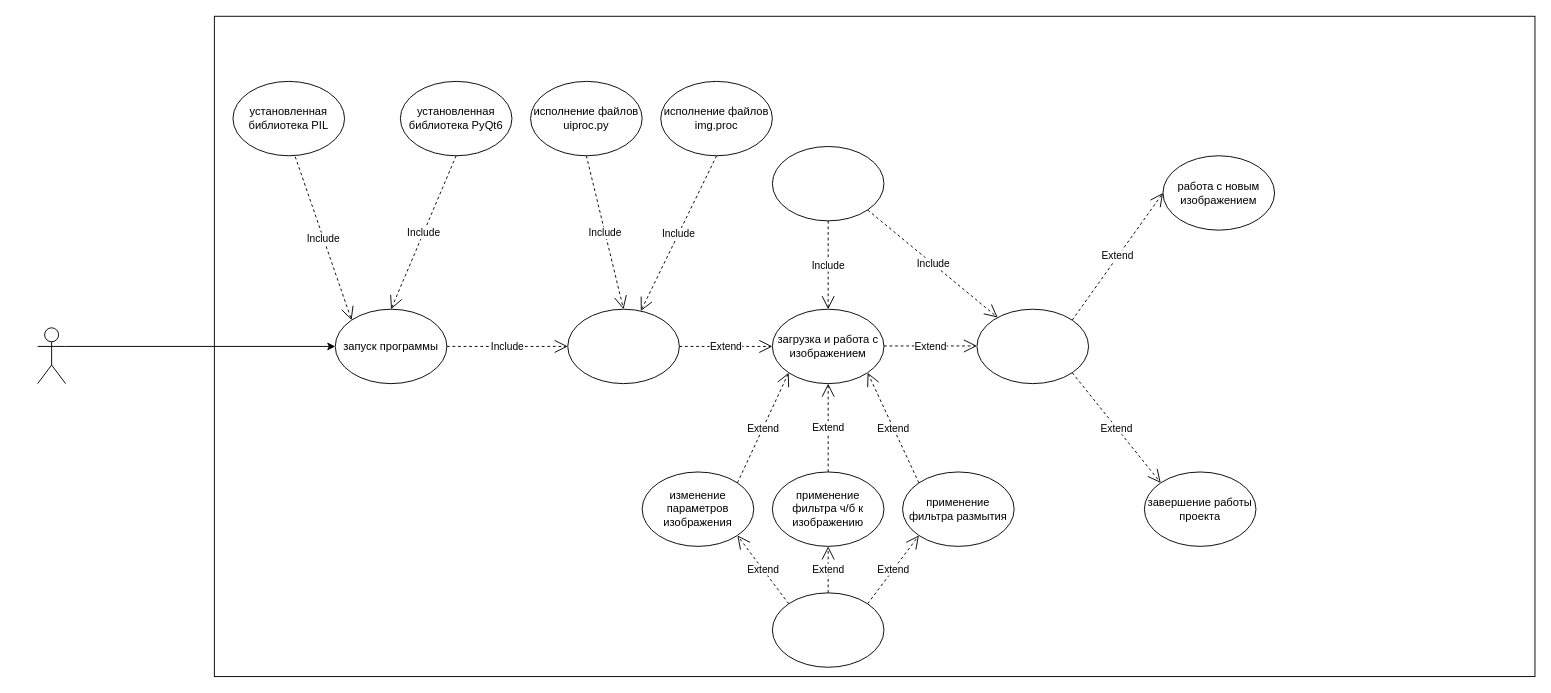
Some shapes in this 1551 by 693 pixel diagram are drawn without their labels. Here are the shapes that lost their labels. From the top down, the centre of each, then its label:
pixel 827 183: сохранение действий в лог
pixel 51 355: пользователь
pixel 623 346: открытие интерфейса и вывод на экран
pixel 1032 346: сохранение результата в нужную папку
pixel 827 629: Отмена действия
